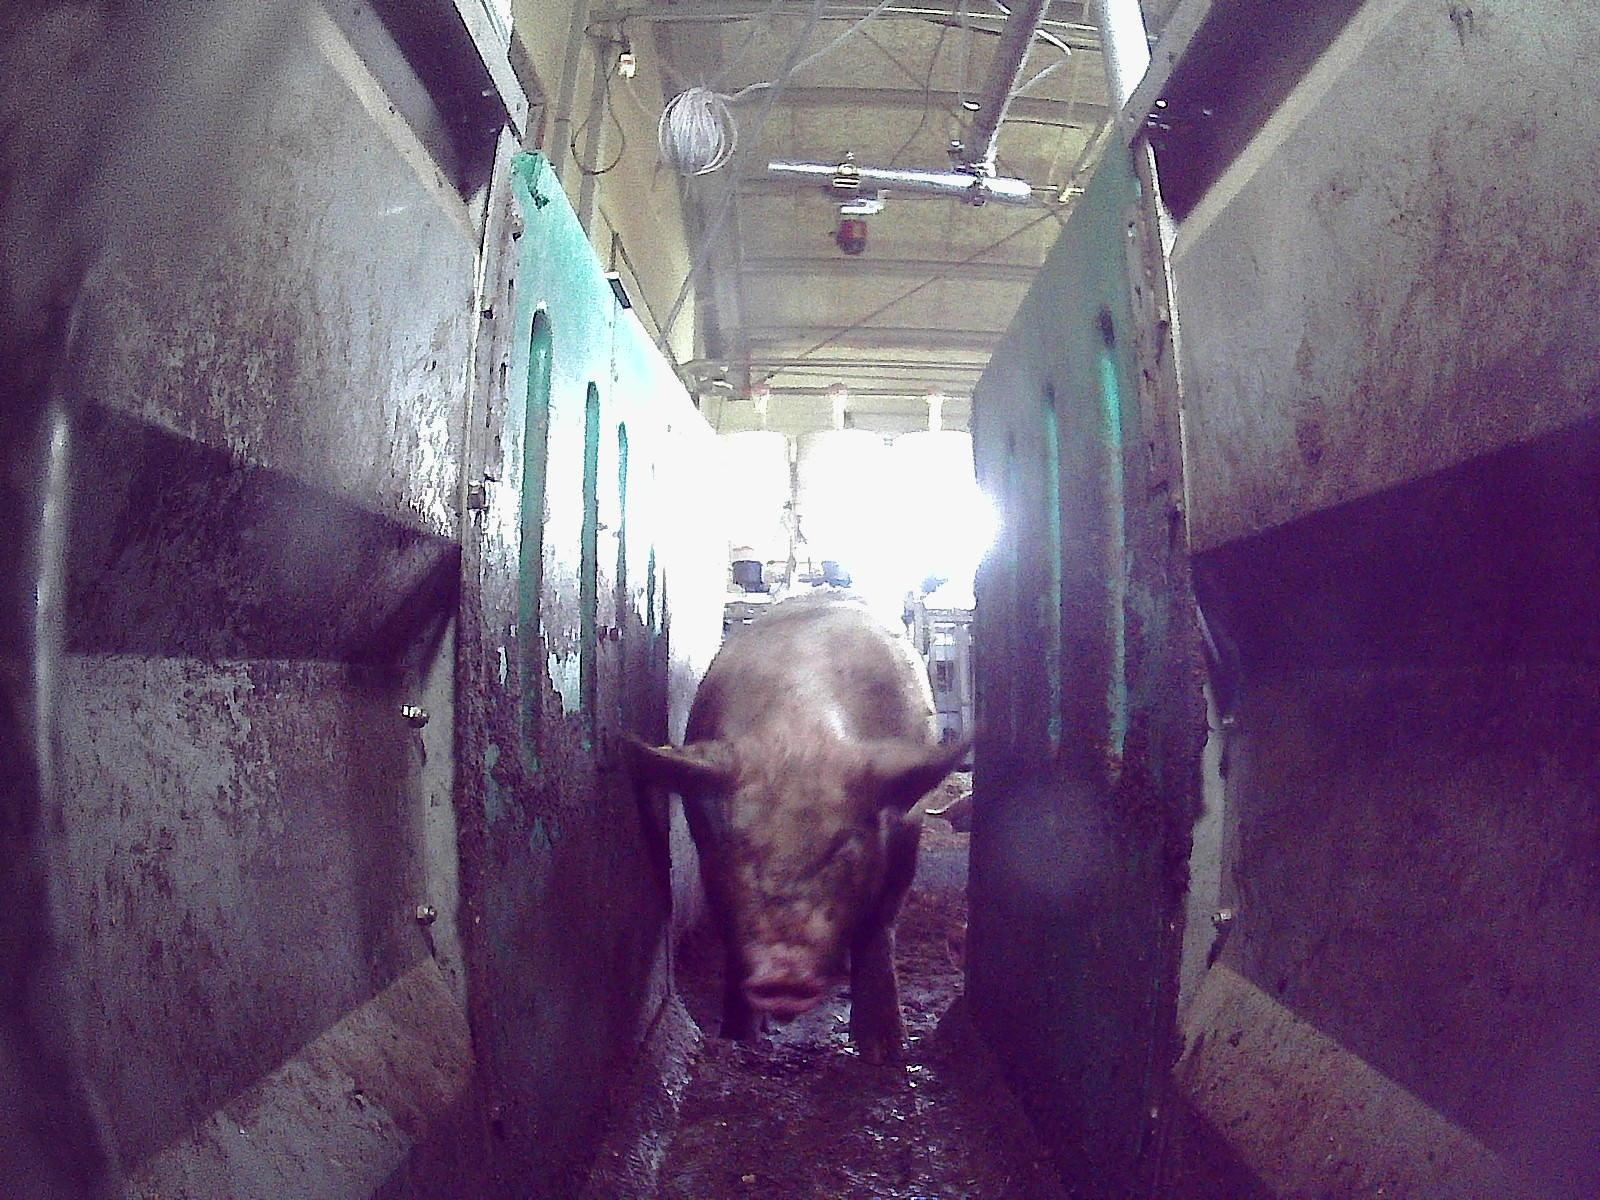Face: (704, 746, 883, 1014)
